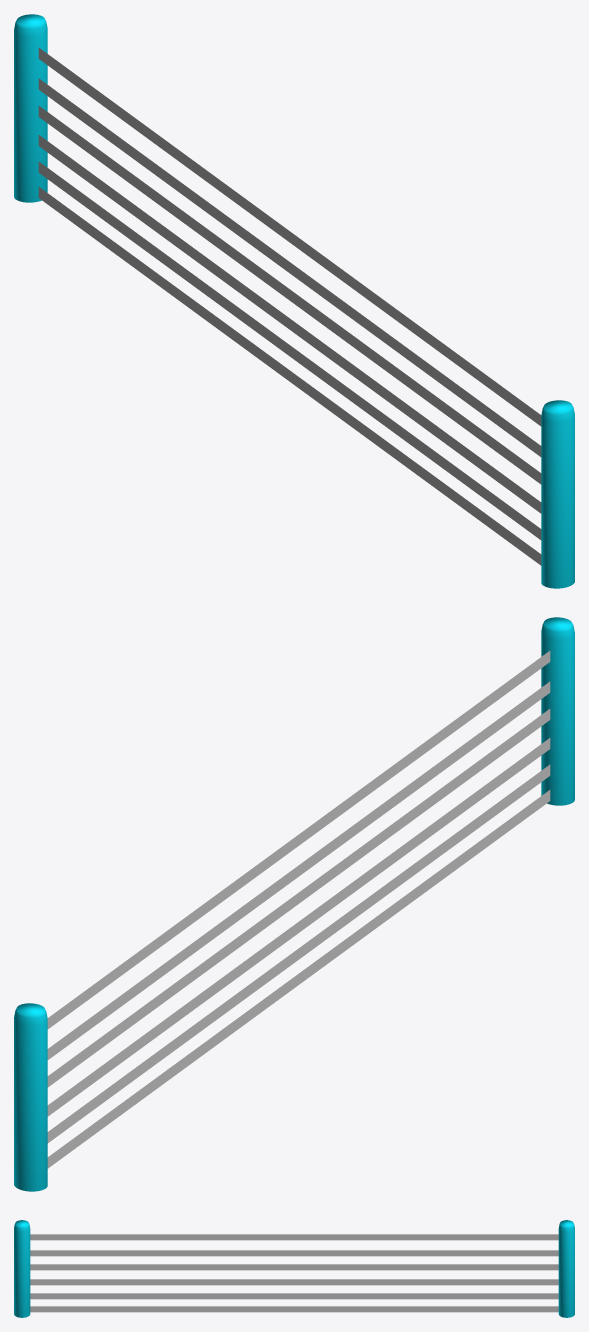
File: blueborder.glb
3 views of the same model, one above another, from view 1: azimuth 30°, elevation 25°; view 2: azimuth 150°, elevation 25°; view 3: azimuth 270°, elevation 25° (orthographic). The views are drawn at different scales.
Parts seen in each view (by area): view 1: blueborder; view 2: blueborder; view 3: blueborder.
Boxes of the visible parts, bbox=[...] form: blueborder: bbox=[14, 14, 574, 588]; blueborder: bbox=[14, 617, 574, 1191]; blueborder: bbox=[14, 1220, 574, 1317].
Bounding box in the file's own units: 0.2007 × 1.12 × 6.29.
